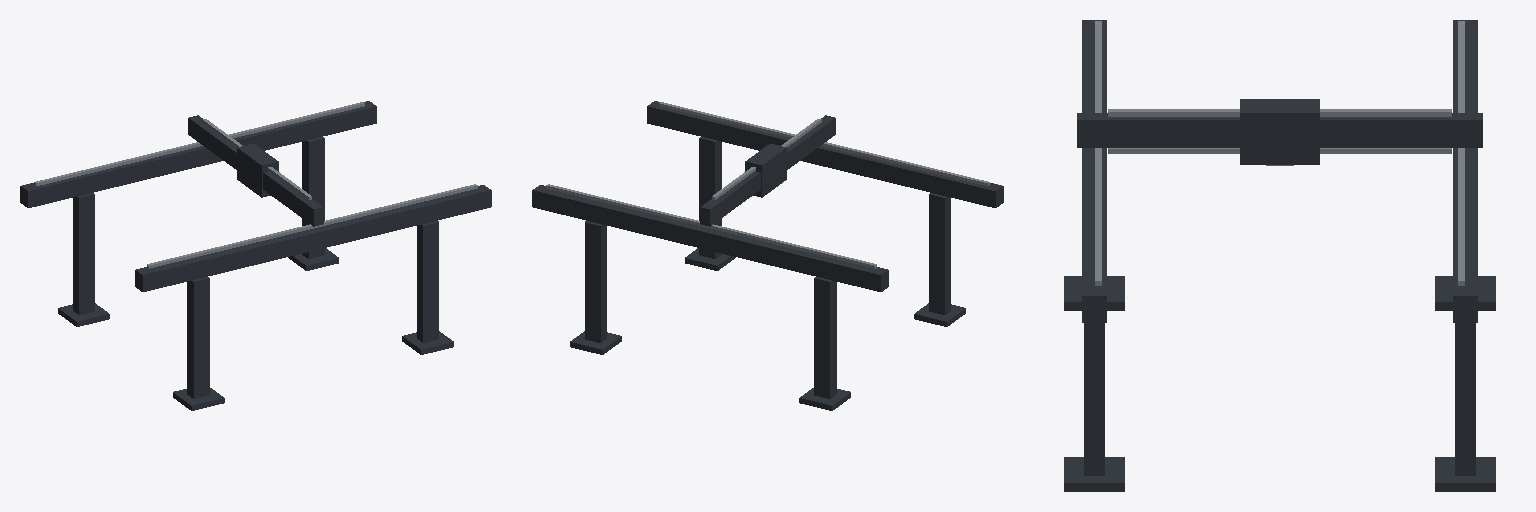
robot.urdf — paint_cell_8axis:
<?xml version='1.0' encoding='utf-8'?>
<robot name="paint_cell_8axis">
  <material name="cell_rail"><color rgba="0.55 0.57 0.60 1.0" /></material><material name="cell_frame"><color rgba="0.25 0.27 0.30 1.0" /></material><material name="black">
    <color rgba="0.0 0.0 0.0 1.0" />
  </material>
  <material name="white">
    <color rgba="1.0 1.0 1.0 1.0" />
  </material>
  <material name="orange">
    <color rgba="1.0 0.4 0.0 1.0" />
  </material>
  <material name="dr_gray">
    <color rgba="0.490 0.490 0.486 1.0" />
  </material>
  <material name="dr_white">
    <color rgba="0.941 0.941 0.941 1.0" />
  </material>
  <material name="dr_blue">
    <color rgba="0 0 0.15 1" />
  </material>
  <link name="base_link">
    <inertial>
      <mass value="3.635" />
      <origin xyz="4e-06   -0.001016     0.08181" />
      <inertia ixx="0.02216" ixy="5.8001e-06" ixz="6.1941e-06" iyy="0.024835" iyz="-5.3034e-05" izz="0.021063" />
    </inertial>
    <collision>
      <origin rpy="0 0 0" xyz="0 0 0" />
      <geometry>
        <mesh filename="package://dsr_description2/meshes/a0912_collision/A0912_0_0.dae" scale="0.001 0.001 0.001" />
      </geometry>
    </collision>
    <visual>
      <origin rpy="0 0 0" xyz="0 0 0" />
      <geometry>
        <mesh filename="package://dsr_description2/meshes/a0912_white/A0912_0_0.dae" scale="0.001 0.001 0.001" />
      </geometry>
    </visual>
  </link>
  
  <joint name="joint_1" type="revolute">
    <parent link="base_link" />
    <child link="link_1" />
    <origin rpy="0 0 0" xyz="0 0 0.195" />
    <axis xyz="0 0 1" />
    <limit effort="411" lower="-6.2832" upper="6.2832" velocity="3.1416" />
    <dynamics friction="0" />
  </joint>
  <link name="link_1">
    <inertial>
      <mass value="7.863" />
      <origin xyz="4.4e-05    0.029982    -0.01112" />
      <inertia ixx="0.045839" ixy="1.2759e-05" ixz="-3.6168e-05" iyy="0.032913" iyz="-0.0029965" izz="0.044399" />
    </inertial>
    <collision>
      <origin rpy="0 0 0" xyz="0 0 0" />
      <geometry>
        <mesh filename="package://dsr_description2/meshes/a0912_collision/A0912_1_0.dae" scale="0.001 0.001 0.001" />
      </geometry>
    </collision>
    <visual>
      <origin rpy="0 0 0" xyz="0 0 0" />
      <geometry>
        <mesh filename="package://dsr_description2/meshes/a0912_white/A0912_1_0.dae" scale="0.001 0.001 0.001" />
      </geometry>
    </visual>
    <collision>
      <origin rpy="0 0 0" xyz="0 0 0" />
      <geometry>
        <mesh filename="package://dsr_description2/meshes/a0912_collision/A0912_1_1.dae" scale="0.001 0.001 0.001" />
      </geometry>
    </collision>
    <visual>
      <origin rpy="0 0 0" xyz="0 0 0" />
      <geometry>
        <mesh filename="package://dsr_description2/meshes/a0912_white/A0912_1_1.dae" scale="0.001 0.001 0.001" />
      </geometry>
    </visual>
    <collision>
      <origin rpy="0 0 0" xyz="0 0 0" />
      <geometry>
        <mesh filename="package://dsr_description2/meshes/a0912_collision/A0912_1_2.dae" scale="0.001 0.001 0.001" />
      </geometry>
    </collision>
    <visual>
      <origin rpy="0 0 0" xyz="0 0 0" />
      <geometry>
        <mesh filename="package://dsr_description2/meshes/a0912_white/A0912_1_2.dae" scale="0.001 0.001 0.001" />
      </geometry>
    </visual>
  </link>
  
  <joint name="joint_2" type="revolute">
    <parent link="link_1" />
    <child link="link_2" />
    <origin rpy="0 -1.571 -1.571" xyz="0 0.039 0" />
    <axis xyz="0 0 1" />
    <limit effort="411" lower="-6.2832" upper="6.2832" velocity="3.1416" />
    <dynamics friction="0" />
  </joint>
  <link name="link_2">
    <inertial>
      <mass value="10.985" />
      <origin xyz="0.19748    0.001426     0.13191" />
      <inertia ixx="0.04446" ixy="-0.0049948" ixz="-0.010992" iyy="0.67642" iyz="-2.8483e-05" izz="0.67428" />
    </inertial>
    <collision>
      <origin rpy="0 0 0" xyz="0 0 0" />
      <geometry>
        <mesh filename="package://dsr_description2/meshes/a0912_collision/A0912_2_0.dae" scale="0.001 0.001 0.001" />
      </geometry>
    </collision>
    <visual>
      <origin rpy="0 0 0" xyz="0 0 0" />
      <geometry>
        <mesh filename="package://dsr_description2/meshes/a0912_white/A0912_2_0.dae" scale="0.001 0.001 0.001" />
      </geometry>
    </visual>
    <collision>
      <origin rpy="0 0 0" xyz="0 0 0" />
      <geometry>
        <mesh filename="package://dsr_description2/meshes/a0912_collision/A0912_2_1.dae" scale="0.001 0.001 0.001" />
      </geometry>
    </collision>
    <visual>
      <origin rpy="0 0 0" xyz="0 0 0" />
      <geometry>
        <mesh filename="package://dsr_description2/meshes/a0912_white/A0912_2_1.dae" scale="0.001 0.001 0.001" />
      </geometry>
    </visual>
    <collision>
      <origin rpy="0 0 0" xyz="0 0 0" />
      <geometry>
        <mesh filename="package://dsr_description2/meshes/a0912_collision/A0912_2_2.dae" scale="0.001 0.001 0.001" />
      </geometry>
    </collision>
    <visual>
      <origin rpy="0 0 0" xyz="0 0 0" />
      <geometry>
        <mesh filename="package://dsr_description2/meshes/a0912_white/A0912_2_2.dae" scale="0.001 0.001 0.001" />
      </geometry>
    </visual>
  </link>
  
  <joint name="joint_3" type="revolute">
    <parent link="link_2" />
    <child link="link_3" />
    <origin rpy="0 0 1.571" xyz="0.56 0 0" />
    <axis xyz="0 0 1" />
    <limit effort="194" lower="-2.7925" upper="2.7925" velocity="3.1416" />
    <dynamics friction="0" />
  </joint>
  <link name="link_3">
    <inertial>
      <mass value="2.881" />
      <origin xyz="8.5e-05   -0.002513    0.032058" />
      <inertia ixx="0.012756" ixy="-5.4257e-06" ixz="1.6402e-05" iyy="0.011416" iyz="-0.0001989" izz="0.0080652" />
    </inertial>
    <collision>
      <origin rpy="0 0 0" xyz="0 0 0" />
      <geometry>
        <mesh filename="package://dsr_description2/meshes/a0912_collision/A0912_3_0.dae" scale="0.001 0.001 0.001" />
      </geometry>
    </collision>
    <visual>
      <origin rpy="0 0 0" xyz="0 0 0" />
      <geometry>
        <mesh filename="package://dsr_description2/meshes/a0912_white/A0912_3_0.dae" scale="0.001 0.001 0.001" />
      </geometry>
    </visual>
    <collision>
      <origin rpy="0 0 0" xyz="0 0 0" />
      <geometry>
        <mesh filename="package://dsr_description2/meshes/a0912_collision/A0912_3_1.dae" scale="0.001 0.001 0.001" />
      </geometry>
    </collision>
    <visual>
      <origin rpy="0 0 0" xyz="0 0 0" />
      <geometry>
        <mesh filename="package://dsr_description2/meshes/a0912_white/A0912_3_1.dae" scale="0.001 0.001 0.001" />
      </geometry>
    </visual>
  </link>
  
  <joint name="joint_4" type="revolute">
    <parent link="link_3" />
    <child link="link_4" />
    <origin rpy="1.571 0 0" xyz="0 -0.516 0" />
    <axis xyz="0 0 1" />
    <limit effort="50" lower="-6.2832" upper="6.2832" velocity="6.2832" />
    <dynamics friction="0" />
  </joint>
  <link name="link_4">
    <inertial>
      <mass value="3.273" />
      <origin xyz="-9.6e-05    0.085314    -0.13975" />
      <inertia ixx="0.12246" ixy="2.3905e-05" ixz="2.5022e-05" iyy="0.11307" iyz="-0.027995" izz="0.017186" />
    </inertial>
    <collision>
      <origin rpy="0 0 0" xyz="0 0 0" />
      <geometry>
        <mesh filename="package://dsr_description2/meshes/a0912_collision/A0912_4_0.dae" scale="0.001 0.001 0.001" />
      </geometry>
    </collision>
    <visual>
      <origin rpy="0 0 0" xyz="0 0 0" />
      <geometry>
        <mesh filename="package://dsr_description2/meshes/a0912_white/A0912_4_0.dae" scale="0.001 0.001 0.001" />
      </geometry>
    </visual>
    <collision>
      <origin rpy="0 0 0" xyz="0 0 0" />
      <geometry>
        <mesh filename="package://dsr_description2/meshes/a0912_collision/A0912_4_1.dae" scale="0.001 0.001 0.001" />
      </geometry>
    </collision>
    <visual>
      <origin rpy="0 0 0" xyz="0 0 0" />
      <geometry>
        <mesh filename="package://dsr_description2/meshes/a0912_white/A0912_4_1.dae" scale="0.001 0.001 0.001" />
      </geometry>
    </visual>
  </link>
  
  <joint name="joint_5" type="revolute">
    <parent link="link_4" />
    <child link="link_5" />
    <origin rpy="-1.571 0 0" xyz="0 0 0" />
    <axis xyz="0 0 1" />
    <limit effort="50" lower="-6.2832" upper="6.2832" velocity="6.2832" />
    <dynamics friction="0" />
  </joint>
  <link name="link_5">
    <inertial>
      <mass value="2.141" />
      <origin xyz="0.000109   -0.003286     0.01477" />
      <inertia ixx="0.013145" ixy="-4.7132e-06" ixz="8.5804e-06" iyy="0.0073072" iyz="-5.999e-05" izz="0.0090476" />
    </inertial>
    <collision>
      <origin rpy="0 0 0" xyz="0 0 0" />
      <geometry>
        <mesh filename="package://dsr_description2/meshes/a0912_collision/A0912_5_0.dae" scale="0.001 0.001 0.001" />
      </geometry>
    </collision>
    <visual>
      <origin rpy="0 0 0" xyz="0 0 0" />
      <geometry>
        <mesh filename="package://dsr_description2/meshes/a0912_white/A0912_5_0.dae" scale="0.001 0.001 0.001" />
      </geometry>
    </visual>
    <collision>
      <origin rpy="0 0 0" xyz="0 0 0" />
      <geometry>
        <mesh filename="package://dsr_description2/meshes/a0912_collision/A0912_5_1.dae" scale="0.001 0.001 0.001" />
      </geometry>
    </collision>
    <visual>
      <origin rpy="0 0 0" xyz="0 0 0" />
      <geometry>
        <mesh filename="package://dsr_description2/meshes/a0912_white/A0912_5_1.dae" scale="0.001 0.001 0.001" />
      </geometry>
    </visual>
  </link>
  
  <joint name="joint_6" type="revolute">
    <parent link="link_5" />
    <child link="link_6" />
    <origin rpy="1.571 0 0" xyz="0 -0.124 0" />
    <axis xyz="0 0 1" />
    <limit effort="50" lower="-6.2832" upper="6.2832" velocity="6.2832" />
    <dynamics friction="0" />
  </joint>
  <link name="link_6">
    <inertial>
      <mass value="0.784" />
      <origin xyz="-1.9e-05      -6e-06    -0.05227" />
      <inertia ixx="0.0067403" ixy="5.2373e-06" ixz="2.4957e-06" iyy="0.0048015" iyz="8.3671e-06" izz="0.0059696" />
    </inertial>
    <collision>
      <origin rpy="0 0 0" xyz="0 0 0" />
      <geometry>
        <mesh filename="package://dsr_description2/meshes/a0912_collision/A0912_6_0.dae" scale="0.001 0.001 0.001" />
      </geometry>
    </collision>
    <visual>
      <origin rpy="0 0 0" xyz="0 0 0" />
      <geometry>
        <mesh filename="package://dsr_description2/meshes/a0912_white/A0912_6_0.dae" scale="0.001 0.001 0.001" />
      </geometry>
    </visual>
  </link>
<link name="world_base"><visual><origin xyz="-1.744000 -1.509500 0.039500" rpy="0.000000 0.000000 0.000000" /><geometry><box size="0.500000 0.500000 0.079000" /></geometry><material name="cell_frame" /></visual><visual><origin xyz="-1.744000 -1.509500 0.930000" rpy="0.000000 0.000000 0.000000" /><geometry><box size="0.244000 0.175000 1.702000" /></geometry><material name="cell_frame" /></visual><visual><origin xyz="-1.744000 1.509500 0.039500" rpy="0.000000 0.000000 0.000000" /><geometry><box size="0.500000 0.500000 0.079000" /></geometry><material name="cell_frame" /></visual><visual><origin xyz="-1.744000 1.509500 0.930000" rpy="0.000000 0.000000 0.000000" /><geometry><box size="0.244000 0.175000 1.702000" /></geometry><material name="cell_frame" /></visual><visual><origin xyz="1.744000 -1.509500 0.039500" rpy="0.000000 0.000000 0.000000" /><geometry><box size="0.500000 0.500000 0.079000" /></geometry><material name="cell_frame" /></visual><visual><origin xyz="1.744000 -1.509500 0.930000" rpy="0.000000 0.000000 0.000000" /><geometry><box size="0.244000 0.175000 1.702000" /></geometry><material name="cell_frame" /></visual><visual><origin xyz="1.744000 1.509500 0.039500" rpy="0.000000 0.000000 0.000000" /><geometry><box size="0.500000 0.500000 0.079000" /></geometry><material name="cell_frame" /></visual><visual><origin xyz="1.744000 1.509500 0.930000" rpy="0.000000 0.000000 0.000000" /><geometry><box size="0.244000 0.175000 1.702000" /></geometry><material name="cell_frame" /></visual><visual><origin xyz="0.000000 -1.509500 1.942000" rpy="0.000000 0.000000 0.000000" /><geometry><box size="5.300000 0.200000 0.250000" /></geometry><material name="cell_frame" /></visual><visual><origin xyz="0.000000 -1.479500 2.107000" rpy="0.000000 0.000000 0.000000" /><geometry><box size="5.000000 0.053000 0.044000" /></geometry><material name="cell_rail" /></visual><visual><origin xyz="0.000000 1.509500 1.942000" rpy="0.000000 0.000000 0.000000" /><geometry><box size="5.300000 0.200000 0.250000" /></geometry><material name="cell_frame" /></visual><visual><origin xyz="0.000000 1.479500 2.107000" rpy="0.000000 0.000000 0.000000" /><geometry><box size="5.000000 0.053000 0.044000" /></geometry><material name="cell_rail" /></visual><collision><origin xyz="-1.744000 -1.509500 0.039500" rpy="0.000000 0.000000 0.000000" /><geometry><box size="0.500000 0.500000 0.079000" /></geometry></collision><collision><origin xyz="-1.744000 -1.509500 0.930000" rpy="0.000000 0.000000 0.000000" /><geometry><box size="0.244000 0.175000 1.702000" /></geometry></collision><collision><origin xyz="-1.744000 1.509500 0.039500" rpy="0.000000 0.000000 0.000000" /><geometry><box size="0.500000 0.500000 0.079000" /></geometry></collision><collision><origin xyz="-1.744000 1.509500 0.930000" rpy="0.000000 0.000000 0.000000" /><geometry><box size="0.244000 0.175000 1.702000" /></geometry></collision><collision><origin xyz="1.744000 -1.509500 0.039500" rpy="0.000000 0.000000 0.000000" /><geometry><box size="0.500000 0.500000 0.079000" /></geometry></collision><collision><origin xyz="1.744000 -1.509500 0.930000" rpy="0.000000 0.000000 0.000000" /><geometry><box size="0.244000 0.175000 1.702000" /></geometry></collision><collision><origin xyz="1.744000 1.509500 0.039500" rpy="0.000000 0.000000 0.000000" /><geometry><box size="0.500000 0.500000 0.079000" /></geometry></collision><collision><origin xyz="1.744000 1.509500 0.930000" rpy="0.000000 0.000000 0.000000" /><geometry><box size="0.244000 0.175000 1.702000" /></geometry></collision><collision><origin xyz="0.000000 -1.509500 1.942000" rpy="0.000000 0.000000 0.000000" /><geometry><box size="5.300000 0.200000 0.250000" /></geometry></collision><collision><origin xyz="0.000000 -1.479500 2.107000" rpy="0.000000 0.000000 0.000000" /><geometry><box size="5.000000 0.053000 0.044000" /></geometry></collision><collision><origin xyz="0.000000 1.509500 1.942000" rpy="0.000000 0.000000 0.000000" /><geometry><box size="5.300000 0.200000 0.250000" /></geometry></collision><collision><origin xyz="0.000000 1.479500 2.107000" rpy="0.000000 0.000000 0.000000" /><geometry><box size="5.000000 0.053000 0.044000" /></geometry></collision></link><link name="gantry_x_link"><inertial><mass value="1.0" /><origin xyz="0.000000 0.000000 0.000000" rpy="0.000000 0.000000 0.000000" /><inertia ixx="0.01" ixy="0" ixz="0" iyy="0.01" iyz="0" izz="0.01" /></inertial><visual><origin xyz="0.000000 0.000000 0.000000" rpy="0.000000 0.000000 0.000000" /><geometry><box size="0.150000 3.300000 0.250000" /></geometry><material name="cell_frame" /></visual><visual><origin xyz="0.018500 0.000000 -0.165000" rpy="0.000000 0.000000 0.000000" /><geometry><box size="0.053000 2.800000 0.044000" /></geometry><material name="cell_rail" /></visual><visual><origin xyz="0.018500 0.000000 0.165000" rpy="0.000000 0.000000 0.000000" /><geometry><box size="0.053000 2.800000 0.044000" /></geometry><material name="cell_rail" /></visual><collision><origin xyz="0.000000 0.000000 0.000000" rpy="0.000000 0.000000 0.000000" /><geometry><box size="0.150000 3.300000 0.250000" /></geometry></collision><collision><origin xyz="0.018500 0.000000 -0.165000" rpy="0.000000 0.000000 0.000000" /><geometry><box size="0.053000 2.800000 0.044000" /></geometry></collision><collision><origin xyz="0.018500 0.000000 0.165000" rpy="0.000000 0.000000 0.000000" /><geometry><box size="0.053000 2.800000 0.044000" /></geometry></collision></link><joint name="gantry_x" type="prismatic"><parent link="world_base" /><child link="gantry_x_link" /><origin xyz="0.000000 0.000000 2.314000" rpy="0.000000 0.000000 0.000000" /><axis xyz="1 0 0" /><limit effort="2000" lower="-2.196000" upper="2.196000" velocity="1.5" /></joint><link name="gantry_y_link"><inertial><mass value="1.0" /><origin xyz="0.000000 0.000000 0.000000" rpy="0.000000 0.000000 0.000000" /><inertia ixx="0.01" ixy="0" ixz="0" iyy="0.01" iyz="0" izz="0.01" /></inertial><visual><origin xyz="0.000000 0.000000 0.000000" rpy="0.000000 0.000000 0.000000" /><geometry><box size="0.257000 0.650000 0.466000" /></geometry><material name="cell_frame" /></visual><visual><origin xyz="0.000000 0.000000 -0.243000" rpy="0.000000 0.000000 0.000000" /><geometry><box size="0.220000 0.220000 0.020000" /></geometry><material name="cell_rail" /></visual><collision><origin xyz="0.000000 0.000000 0.000000" rpy="0.000000 0.000000 0.000000" /><geometry><box size="0.257000 0.650000 0.466000" /></geometry></collision><collision><origin xyz="0.000000 0.000000 -0.243000" rpy="0.000000 0.000000 0.000000" /><geometry><box size="0.220000 0.220000 0.020000" /></geometry></collision></link><joint name="gantry_y" type="prismatic"><parent link="gantry_x_link" /><child link="gantry_y_link" /><origin xyz="0.028000 0.000000 0.000000" rpy="0.000000 0.000000 0.000000" /><axis xyz="0 1 0" /><limit effort="2000" lower="-1.071000" upper="1.071000" velocity="1.5" /></joint><joint name="gantry_to_arm" type="fixed"><parent link="gantry_y_link" /><child link="base_link" /><origin xyz="0.006036 0.000015 -0.248000" rpy="3.141593 0.000000 1.570796" /></joint><link name="tool_assy"><visual><origin xyz="0 0 0" rpy="0 0 0" /><geometry><mesh filename="package://paint_viz/urdf/tool_assy.stl" /></geometry><material name="dr_gray" /></visual></link><joint name="flange_to_tool" type="fixed"><parent link="link_6" /><child link="tool_assy" /><origin xyz="0 0 0" rpy="0 0 0" /></joint><link name="spray_gun"><visual><origin xyz="0 0 0" rpy="0 0 0" /><geometry><mesh filename="package://paint_viz/urdf/spray_gun.stl" /></geometry><material name="dr_gray" /></visual></link><joint name="tool_to_gun" type="fixed"><parent link="link_6" /><child link="spray_gun" /><origin xyz="0.129200 -0.060700 0.296900" rpy="0 0 0" /></joint><link name="tcp" /><joint name="spray_gun_to_tcp" type="fixed"><parent link="spray_gun" /><child link="tcp" /><origin xyz="0 0 0" rpy="0 0 0" /></joint></robot>

--- Render facts (derived) ---
3 views of the same robot in one strip: view 1: azimuth 30°, elevation 25°; view 2: azimuth 150°, elevation 25°; view 3: azimuth 270°, elevation 25° (orthographic).
Model paint_cell_8axis with 13 links and 12 joints (6 revolute, 2 prismatic, 4 fixed), rooted at world_base, posed every joint at zero.
Links seen in each view (by area): view 1: world_base, gantry_x_link, gantry_y_link; view 2: world_base, gantry_x_link, gantry_y_link; view 3: world_base, gantry_x_link, gantry_y_link.
Link boxes in pixels (x1,y1,x2,y2): world_base: [20, 101, 491, 410]; gantry_x_link: [188, 115, 323, 226]; gantry_y_link: [237, 144, 278, 197]; world_base: [532, 101, 1003, 410]; gantry_x_link: [700, 115, 835, 226]; gantry_y_link: [745, 144, 786, 197]; world_base: [1064, 20, 1495, 491]; gantry_x_link: [1077, 109, 1482, 153]; gantry_y_link: [1240, 99, 1319, 165].
Size in the robot's own frame: 5.3 by 3.52 by 2.55 metres.
Meshes: 16 distinct files referenced, 0 mesh visuals loaded (none loaded); not drawn: 16 (reference not matched to a file when rendering).
